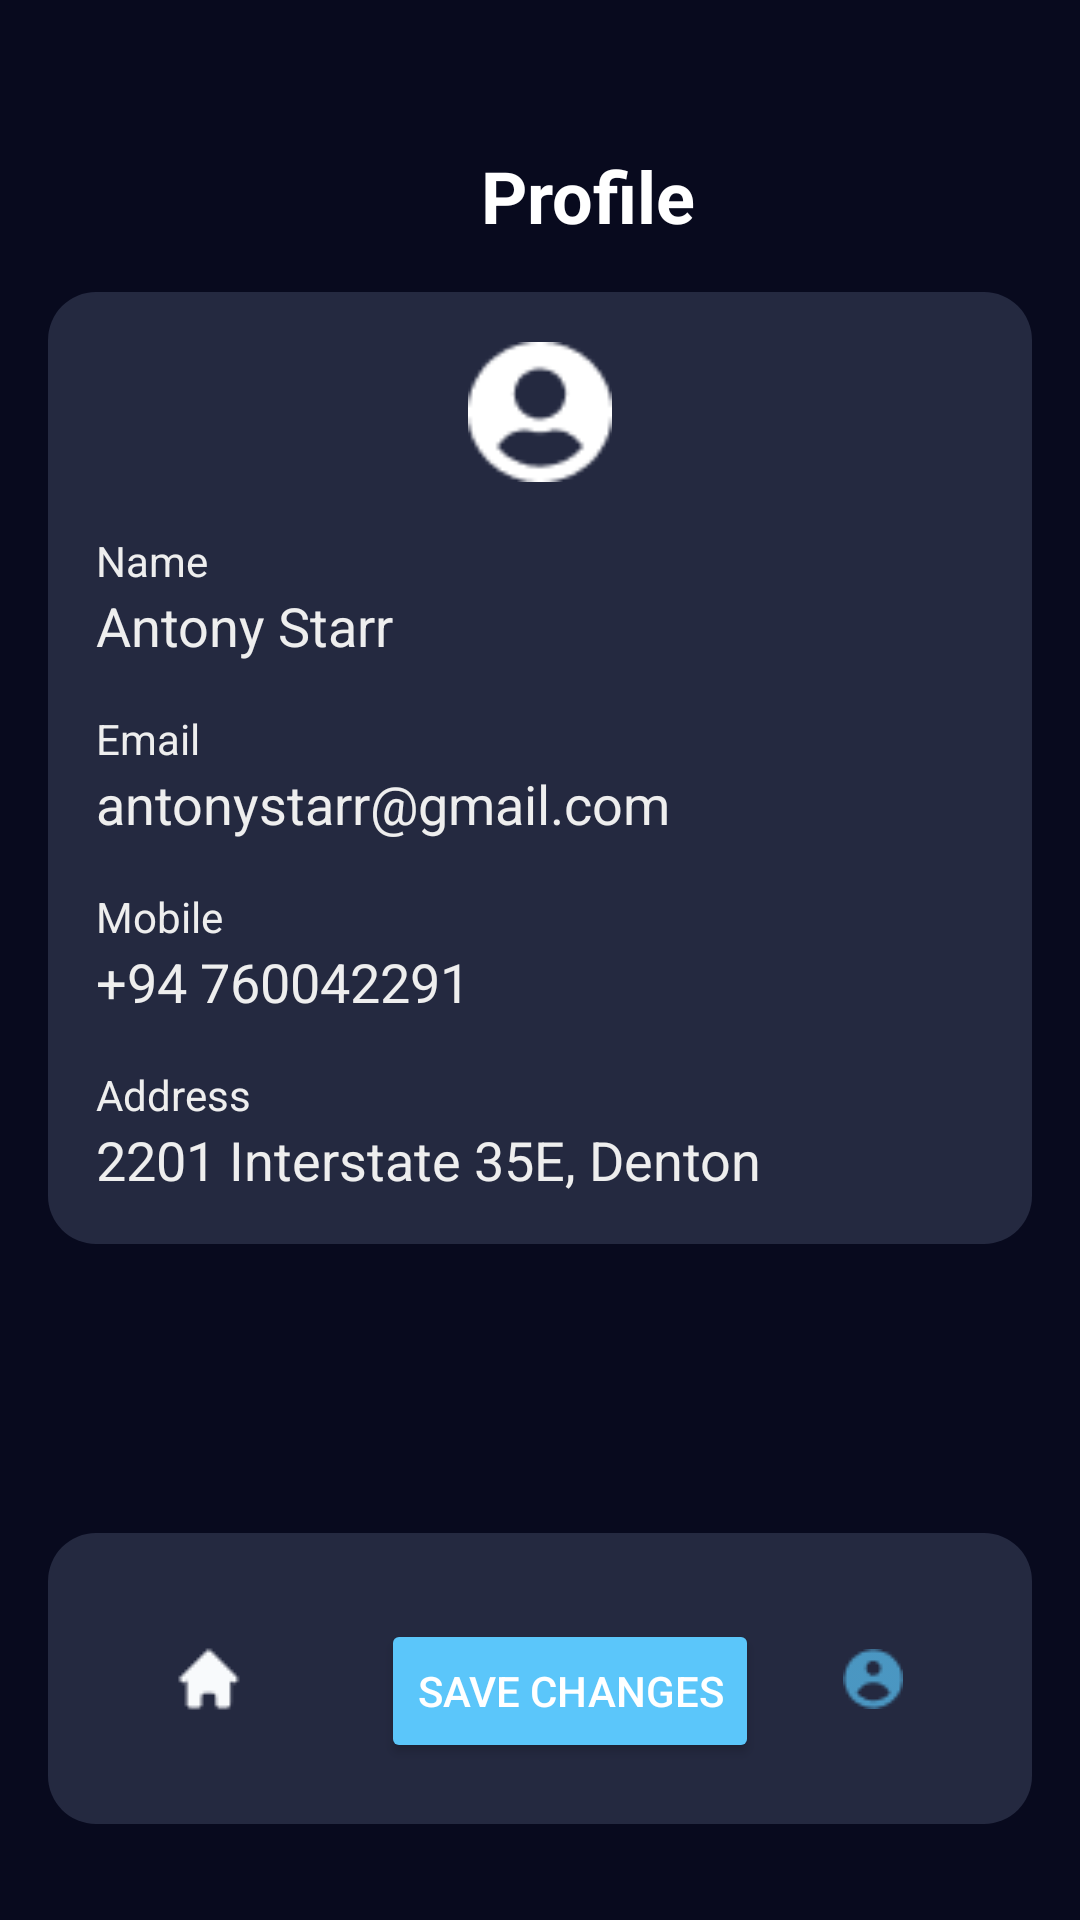

Screen size 1080 × 1920. Icon name, then its center in pixels as (x,y):
onhome: (209,1679)
onprofile: (873,1679)
